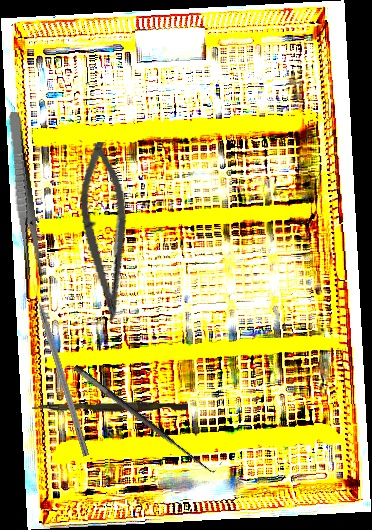Dressing Forceps: (2, 111, 45, 281)
Hook Surgical: (71, 353, 224, 479), (29, 279, 92, 457)
Micro Scissor: (71, 139, 143, 325)
Pusher: (31, 399, 189, 416)
